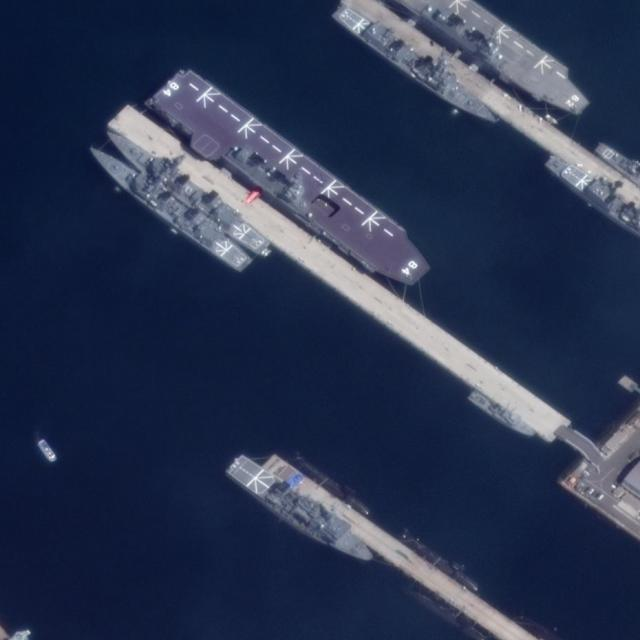Destroyer: (145, 61, 438, 301), (95, 111, 286, 262), (79, 131, 259, 277), (329, 1, 505, 133)
Dock: (108, 100, 597, 463)
Landing: (222, 451, 381, 571)
Other Warship: (467, 390, 536, 445)
Submarine: (398, 530, 480, 593), (294, 454, 372, 517)
